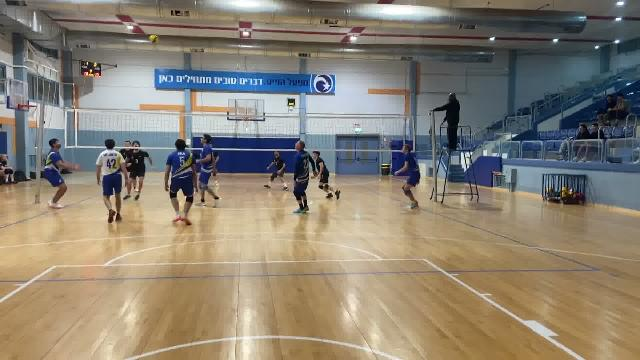ball: (147, 35, 161, 47)
